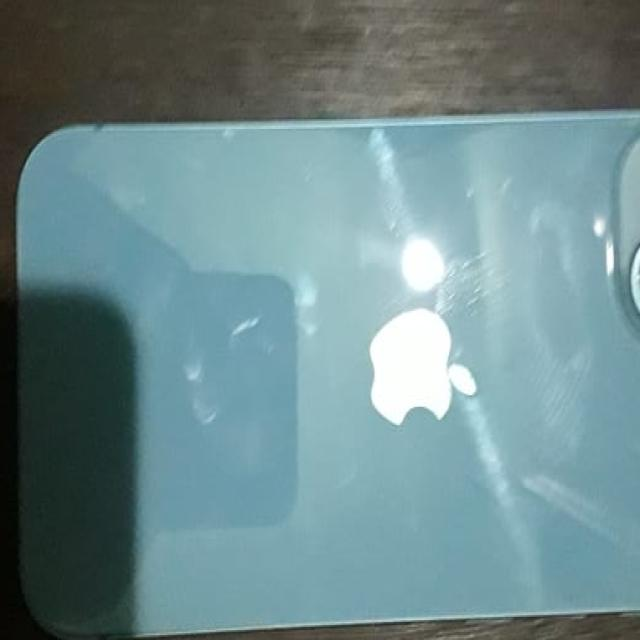Scratches: (416, 239, 543, 327)
